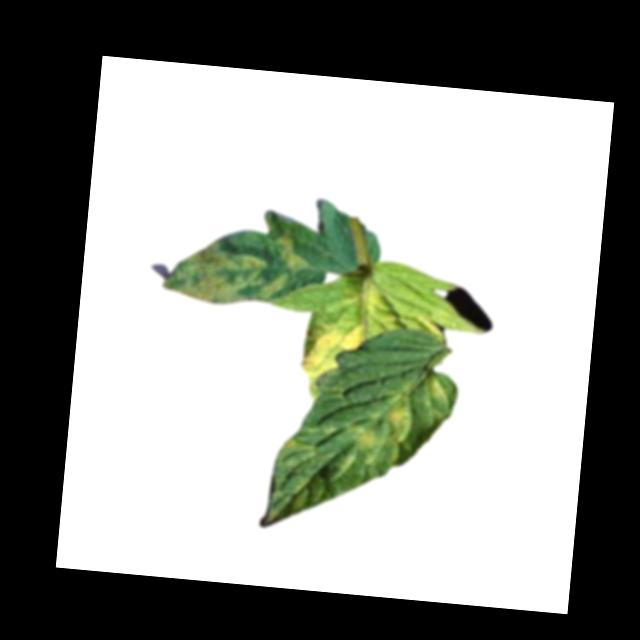Leaf_Mold: (160, 202, 310, 313), (295, 312, 367, 408), (347, 391, 418, 465), (418, 372, 455, 424)
